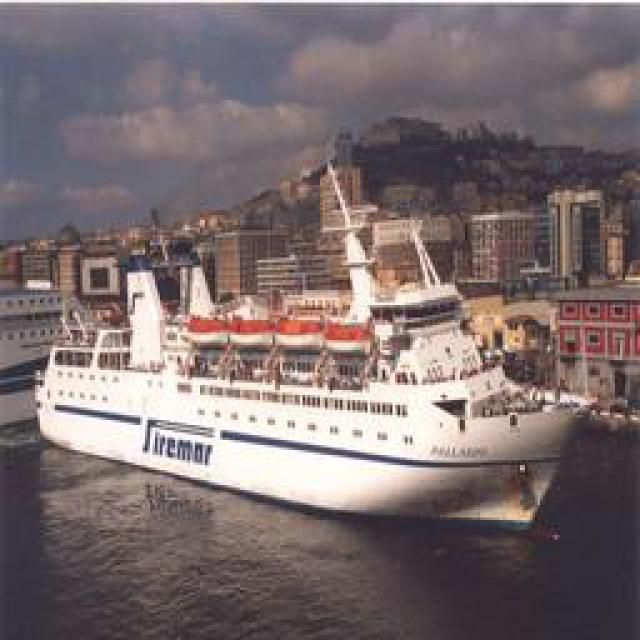Ship: (31, 211, 614, 516)
